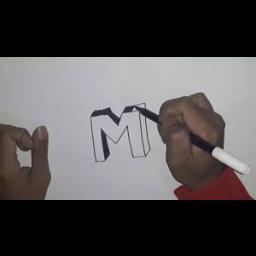m: (88, 99, 158, 171)
